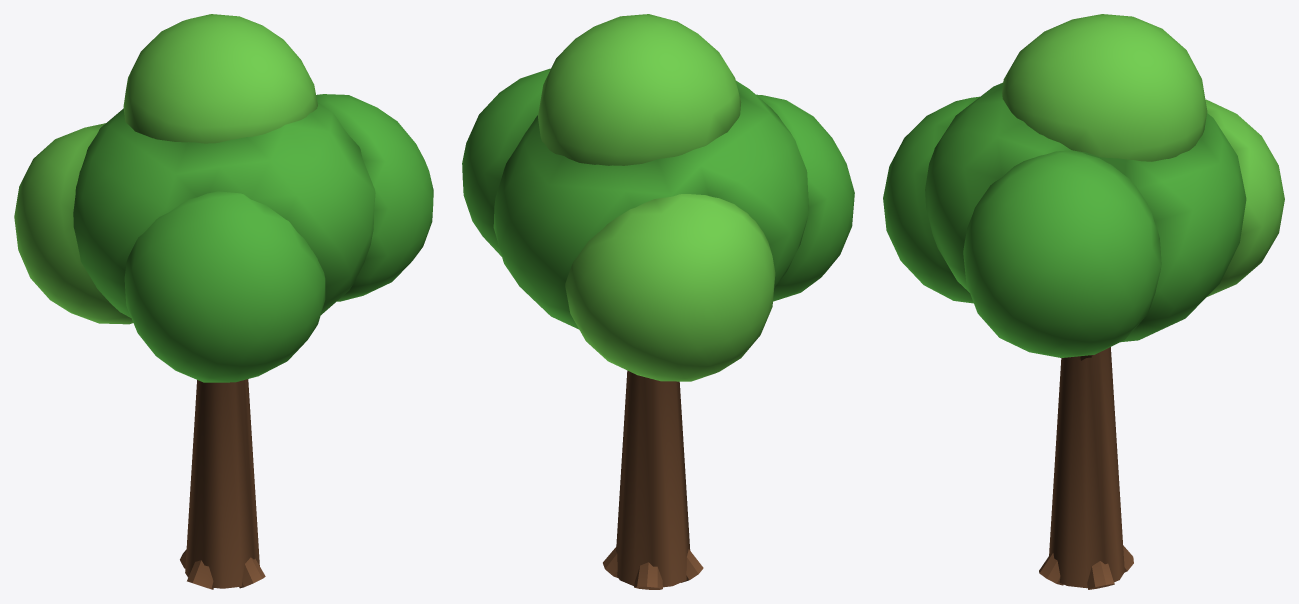
File: md_oak.glb
3 renders of one model, left to right at view 1: azimuth 30°, elevation 25°; view 2: azimuth 150°, elevation 25°; view 3: azimuth 270°, elevation 25°, orthographic. The views are drawn at different scales.
Parts seen in each view (by area): view 1: oak; view 2: oak; view 3: oak.
Part boxes in pixels (x1,y1,x2,y2): oak: (14,14,433,589); oak: (462,14,854,589); oak: (883,14,1284,589).
Size of the model in its own units: 4.35 by 6.75 by 4.4.
